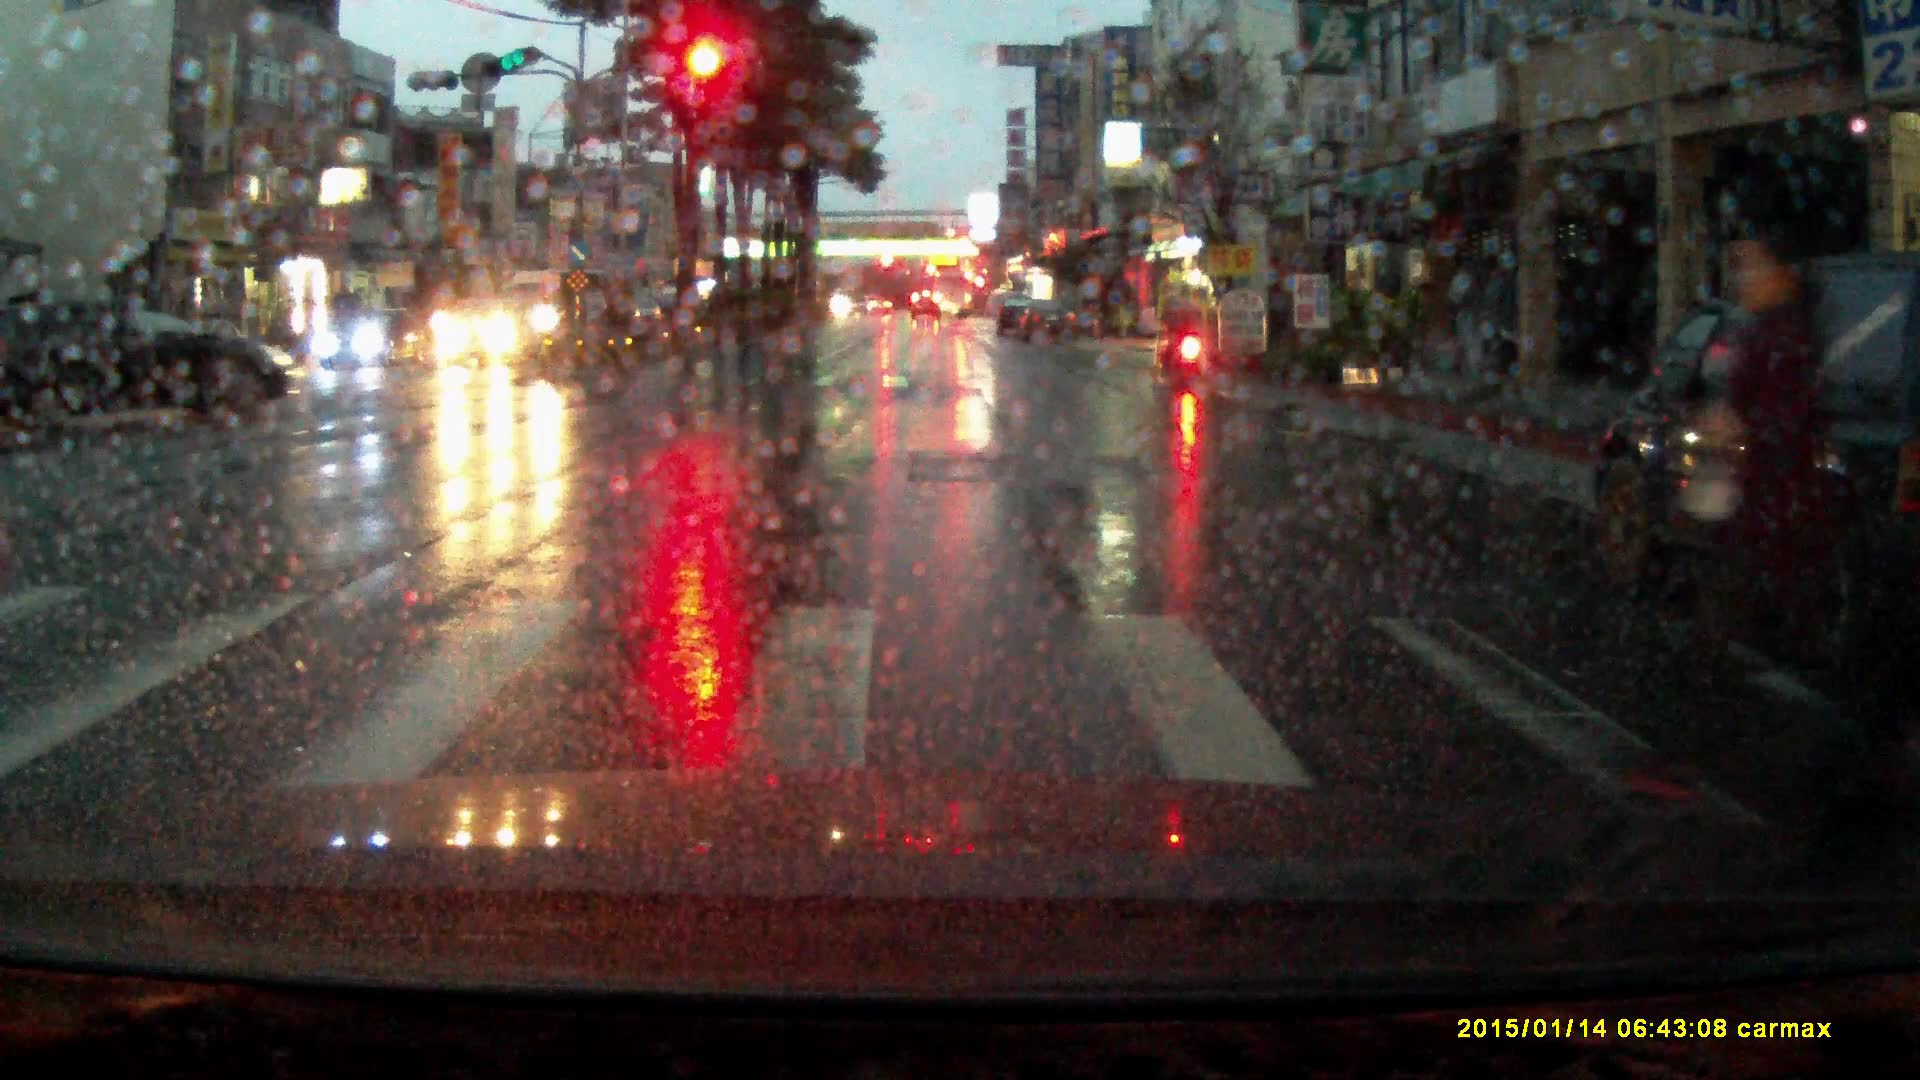pedestrian: (1617, 221, 1915, 819)
rider: (1158, 278, 1202, 387)
vehicle: (1582, 248, 1920, 683), (1, 287, 304, 435), (431, 298, 546, 370), (317, 304, 429, 373), (494, 268, 591, 341), (574, 288, 664, 340), (1017, 300, 1079, 346), (931, 264, 973, 321), (995, 295, 1030, 338), (911, 291, 943, 322)
